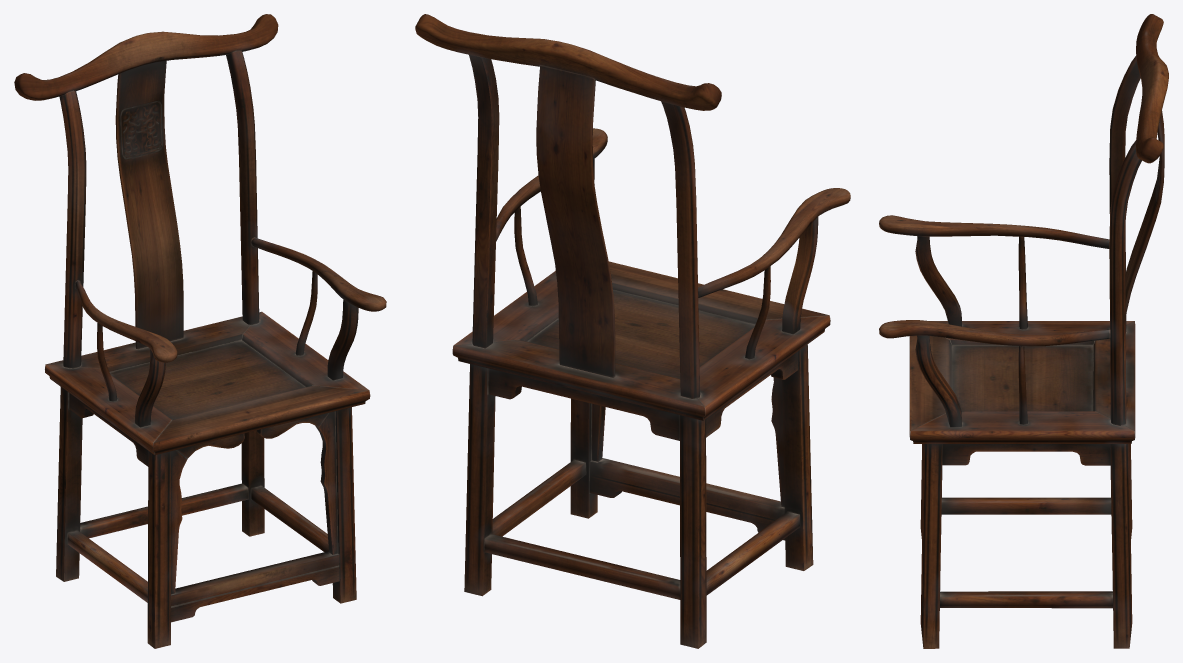
File: chinese_armchair_2k.gltf
The picture shows the model from 3 angles, left to right: view 1: azimuth 30°, elevation 25°; view 2: azimuth 150°, elevation 25°; view 3: azimuth 270°, elevation 25°; orthographic projection. The views are drawn at different scales.
Visible parts, largest first — view 1: chinese_armchair; view 2: chinese_armchair; view 3: chinese_armchair.
Boxes of the visible parts, box(x1,y1,x2,y2) form: chinese_armchair: box(14, 14, 386, 648); chinese_armchair: box(415, 14, 850, 648); chinese_armchair: box(879, 14, 1168, 648).
Size of the model in its own units: 0.8483 by 1.59 by 0.7887.
Materials: 1 (1 with a texture image).
